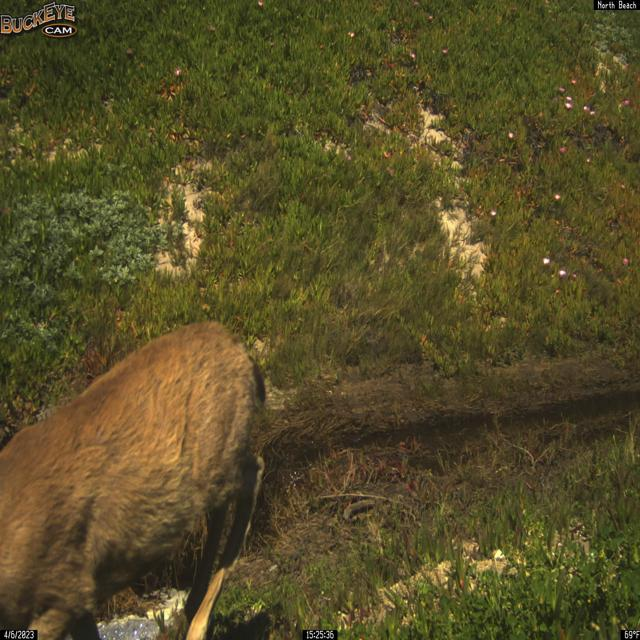deer: (0, 320, 267, 640)
